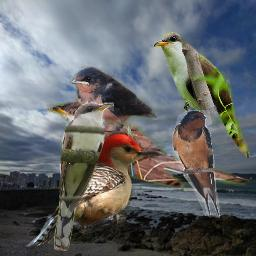Cuckoo: (45, 96, 252, 196), (150, 32, 256, 159), (54, 102, 114, 251)
Swallow: (69, 66, 157, 134), (172, 110, 220, 218)
Woodpecker: (25, 130, 164, 250)
